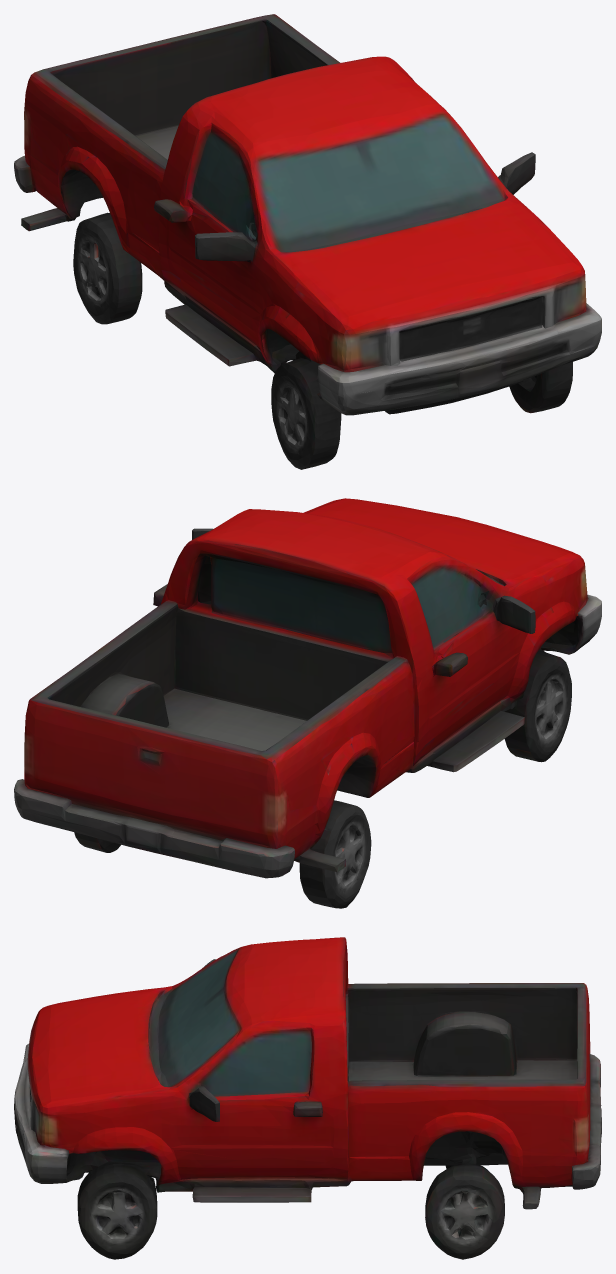
Rendered from truck.glb.
The picture shows the model from 3 angles, top to bottom: view 1: azimuth 30°, elevation 25°; view 2: azimuth 150°, elevation 25°; view 3: azimuth 270°, elevation 25°; orthographic projection. The views are drawn at different scales.
Parts seen in each view (by area): view 1: world; view 2: world; view 3: world.
Boxes of the visible parts, box(x1,y1,x2,y2) form: world: box(14, 14, 601, 469); world: box(14, 498, 601, 908); world: box(14, 937, 601, 1259).
Size of the model in its own units: 0.5813 by 0.4424 by 0.9985.
Materials: 1 (1 with a texture image).
